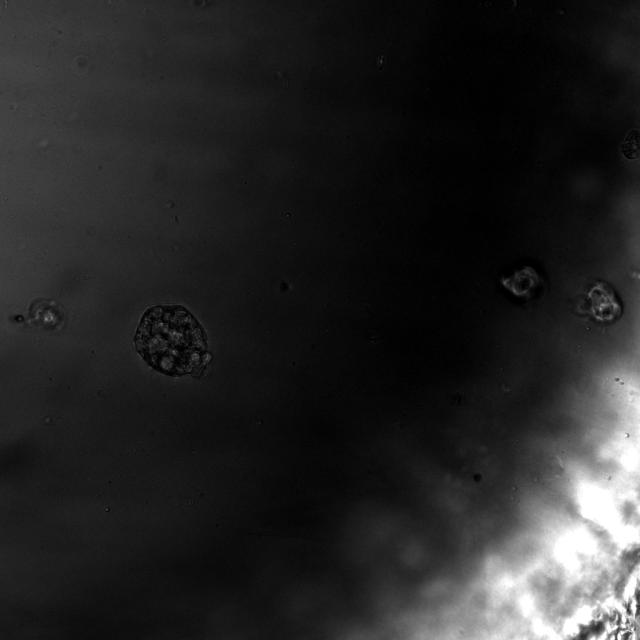organoid: (133, 304, 211, 378), (496, 261, 548, 305), (573, 281, 622, 324), (24, 298, 64, 330)
